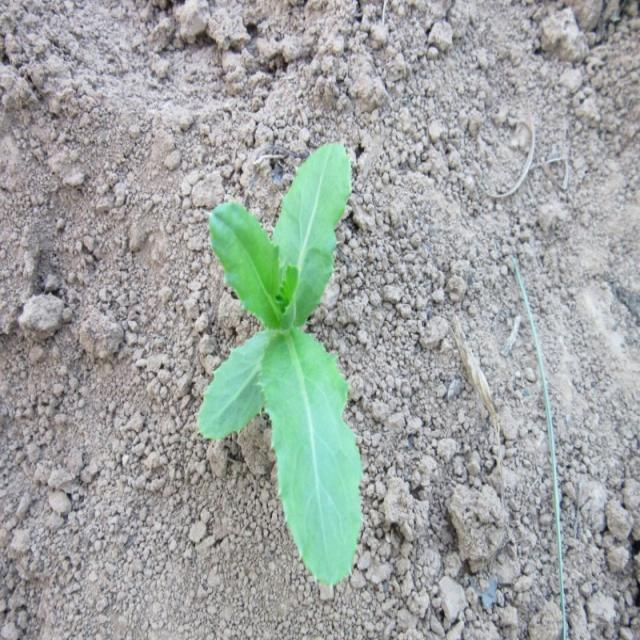cs: (194, 143, 368, 589)
